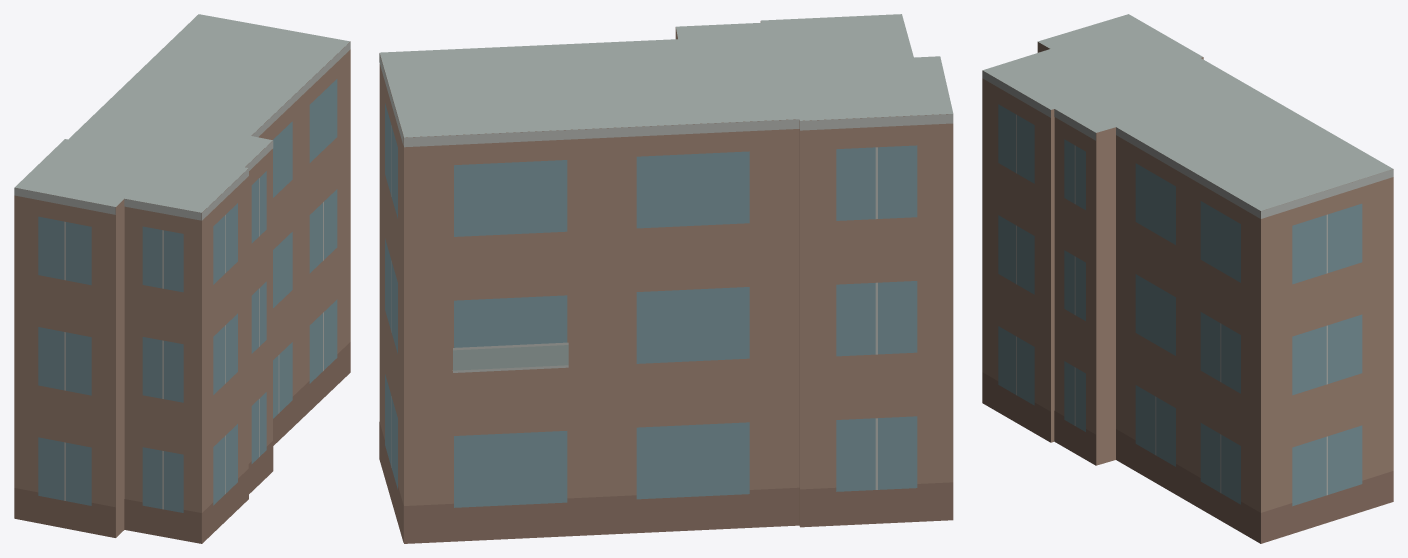
File: survey-upis-32495809.glb
The picture shows the model from 3 angles, left to right: view 1: azimuth 30°, elevation 25°; view 2: azimuth 150°, elevation 25°; view 3: azimuth 270°, elevation 25°; orthographic projection. The views are drawn at different scales.
Parts seen in each view (by area): view 1: survey-upis-32495809.tmp; view 2: survey-upis-32495809.tmp; view 3: survey-upis-32495809.tmp.
Boxes of the visible parts, <box> form: survey-upis-32495809.tmp: <box>14,14,350,543</box>; survey-upis-32495809.tmp: <box>379,14,953,543</box>; survey-upis-32495809.tmp: <box>982,14,1393,543</box>.
Bounding box in the file's own units: 12.97 × 10.2 × 11.43.
